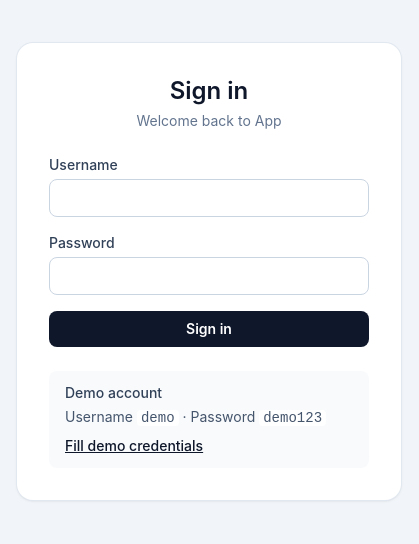
it: LoginView › shows an error when the credentials are rejected
Type "demo" into the field with id "username" at coordinates (209, 198), box [49,178,369,216]
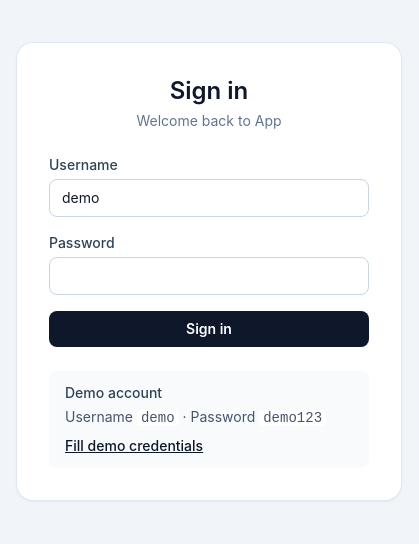
Type "nope" into the password field labelled "Password" at coordinates (209, 276), box [49,256,369,294]
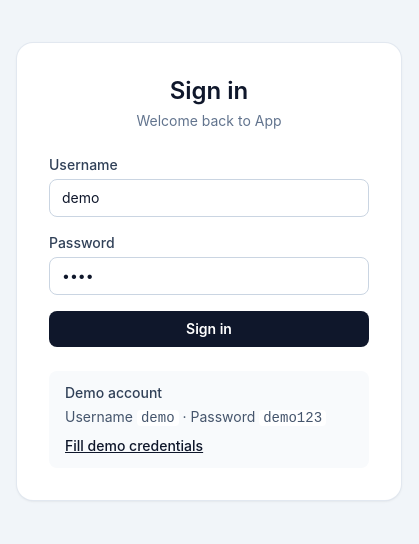
Submit the form, box [49,154,369,346]
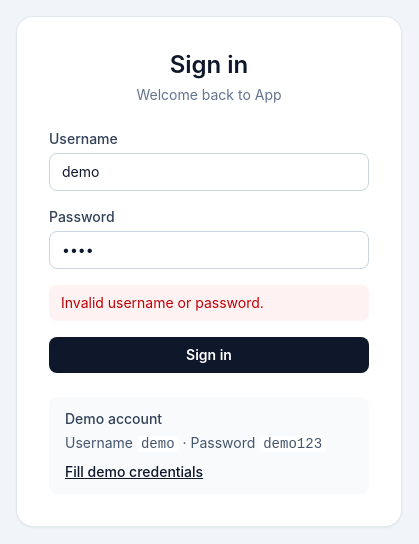
Check: the text "Invalid username or password." is shown, box [49,284,369,320]
